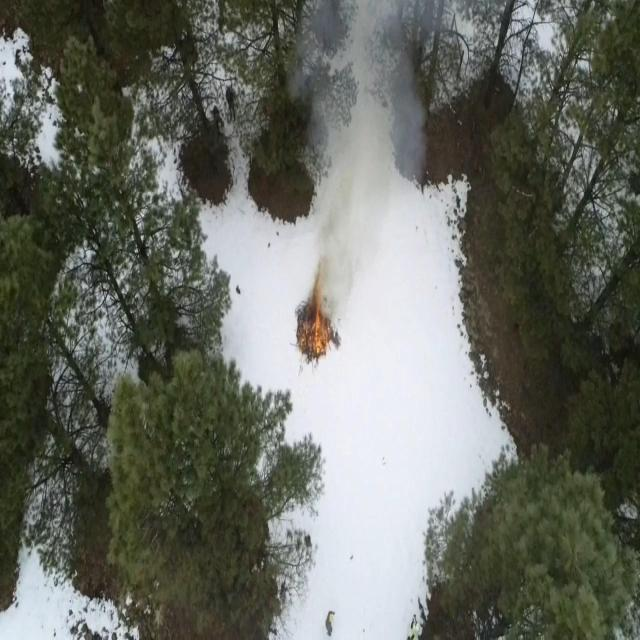Fire: (302, 304, 334, 364)
Smoke: (294, 3, 436, 315)
